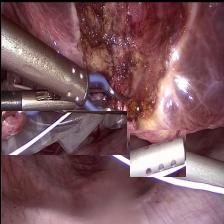Bipolar: (83, 66, 136, 122)
Grasper: (9, 90, 105, 112)
Irrigator: (129, 129, 185, 176)
Specimen Bag: (1, 110, 126, 154)
